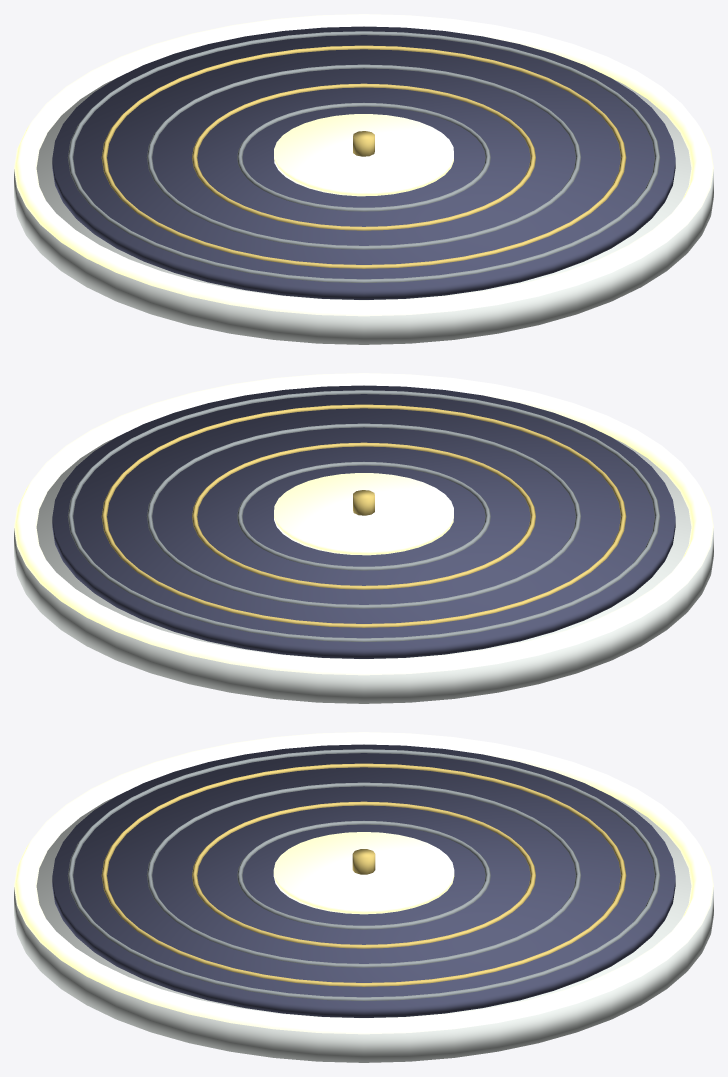
The model's file is turntable.glb.
3 renders of one model, top to bottom at view 1: azimuth 30°, elevation 25°; view 2: azimuth 150°, elevation 25°; view 3: azimuth 270°, elevation 25°, orthographic.
Visible parts, largest first — view 1: Record, Rim, Platter, Label, Groove4, Groove3, Groove2, Groove1, Groove0, Spindle; view 2: Record, Rim, Platter, Label, Groove4, Groove3, Groove2, Groove1, Groove0, Spindle; view 3: Record, Rim, Platter, Label, Groove4, Groove3, Groove2, Groove1, Groove0, Spindle.
Part boxes in pixels (bbox=[...]): Record: bbox=[52, 26, 675, 299]; Rim: bbox=[14, 14, 713, 316]; Platter: bbox=[14, 79, 713, 344]; Label: bbox=[274, 114, 453, 196]; Groove4: bbox=[67, 31, 660, 283]; Groove3: bbox=[101, 45, 626, 268]; Groove2: bbox=[146, 64, 581, 249]; Groove1: bbox=[192, 83, 535, 230]; Groove0: bbox=[237, 103, 490, 211]; Spindle: bbox=[353, 131, 374, 156]; Record: bbox=[52, 385, 675, 658]; Rim: bbox=[14, 373, 713, 675]; Platter: bbox=[14, 438, 713, 703]; Label: bbox=[274, 473, 453, 555]; Groove4: bbox=[67, 390, 660, 642]; Groove3: bbox=[101, 404, 626, 627]; Groove2: bbox=[146, 423, 581, 608]; Groove1: bbox=[192, 442, 535, 589]; Groove0: bbox=[237, 462, 490, 570]; Spindle: bbox=[353, 490, 374, 515]; Record: bbox=[52, 744, 675, 1017]; Rim: bbox=[14, 732, 713, 1034]; Platter: bbox=[14, 797, 713, 1062]; Label: bbox=[273, 832, 454, 914]; Groove4: bbox=[67, 749, 660, 1001]; Groove3: bbox=[101, 763, 626, 986]; Groove2: bbox=[146, 782, 581, 967]; Groove1: bbox=[192, 801, 535, 948]; Groove0: bbox=[237, 821, 490, 929]; Spindle: bbox=[352, 849, 375, 874].
Bounding box in the file's own units: 3.1 × 0.3 × 3.1.
